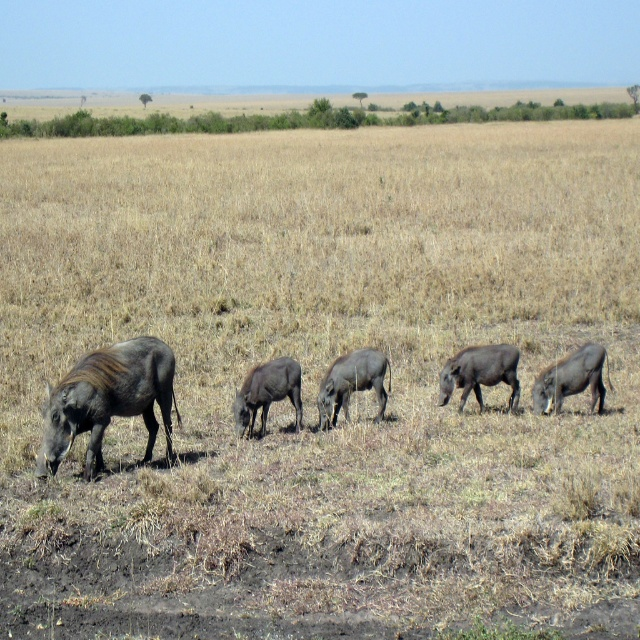Pig: (34, 333, 182, 482), (529, 340, 615, 418), (435, 342, 522, 417), (318, 345, 392, 433), (229, 354, 304, 439)
